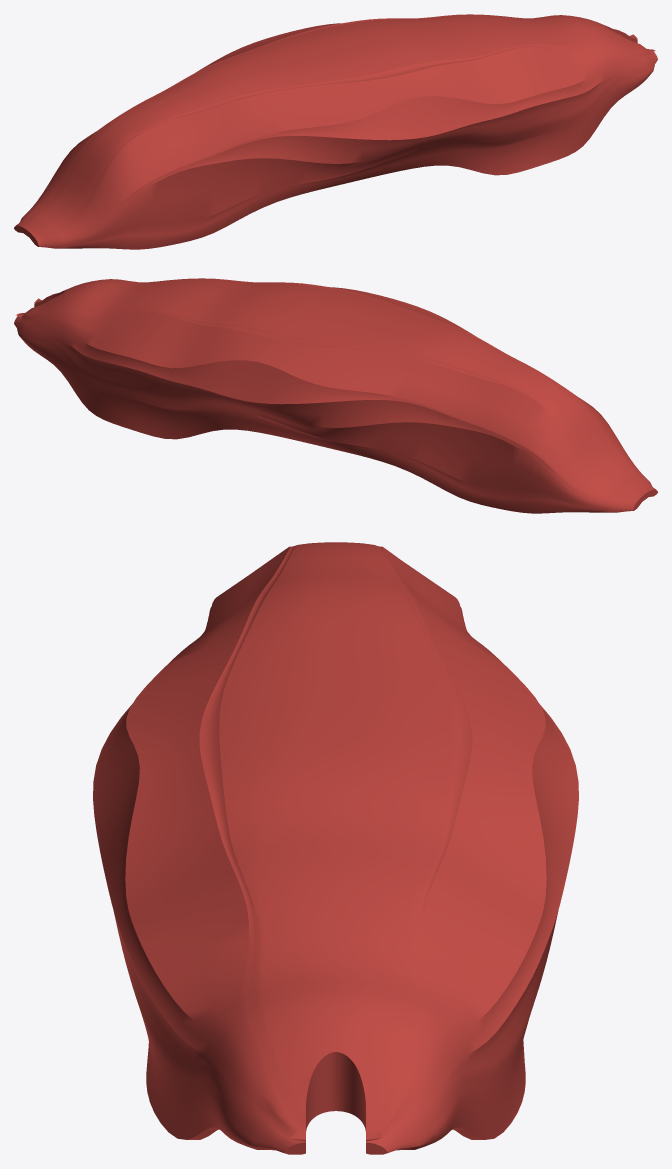
The model's file is streetfighter_lod1.glb.
3 views of the same model, one above another, from view 1: azimuth 30°, elevation 25°; view 2: azimuth 150°, elevation 25°; view 3: azimuth 270°, elevation 25° (orthographic). The views are drawn at different scales.
Visible parts, largest first — view 1: streetfighter_lod1; view 2: streetfighter_lod1; view 3: streetfighter_lod1.
Part boxes in pixels (x1,y1,x2,y2): streetfighter_lod1: [14, 14, 657, 249]; streetfighter_lod1: [14, 278, 657, 513]; streetfighter_lod1: [93, 542, 578, 1154].
Size of the model in its own units: 1.07 by 0.2063 by 0.3624.
